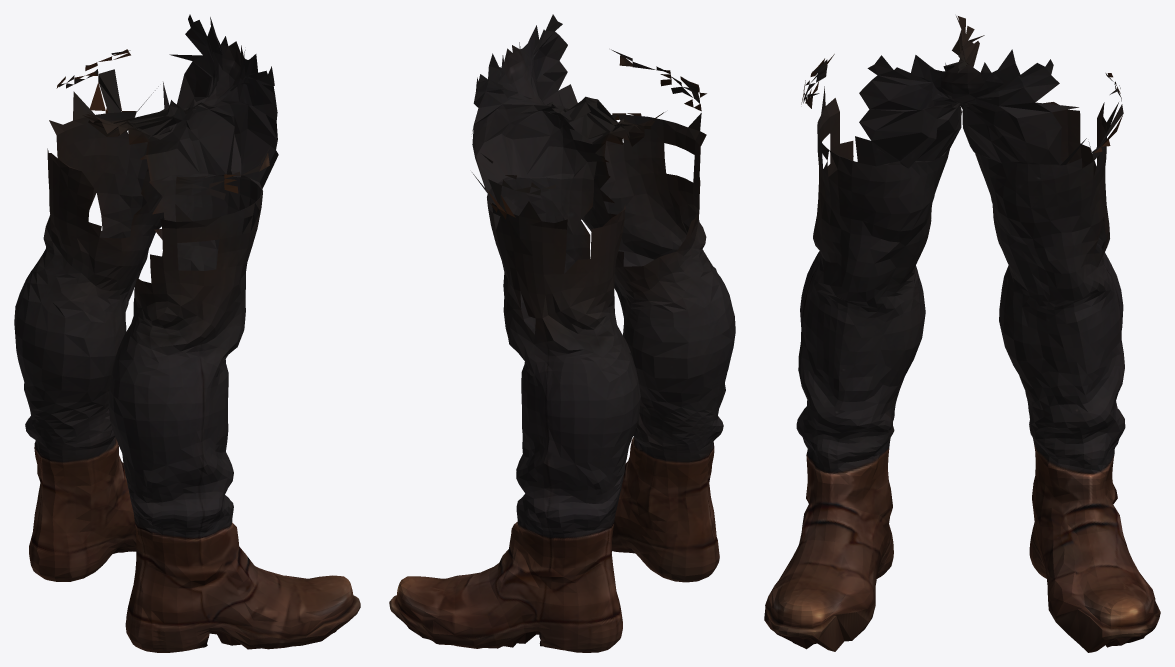
The model's file is bold_cowboy_trousers.glb.
3 renders of one model, left to right at view 1: azimuth 30°, elevation 25°; view 2: azimuth 150°, elevation 25°; view 3: azimuth 270°, elevation 25°, orthographic. The views are drawn at different scales.
Parts seen in each view (by area): view 1: trousers; view 2: trousers; view 3: trousers.
Part boxes in pixels (box(x1,y1,x2,y2)): trousers: box(14, 14, 360, 652); trousers: box(389, 14, 735, 652); trousers: box(764, 16, 1160, 652).
Size of the model in its own units: 0.2129 by 0.5195 by 0.3185.
Materials: 1 (1 with a texture image).
